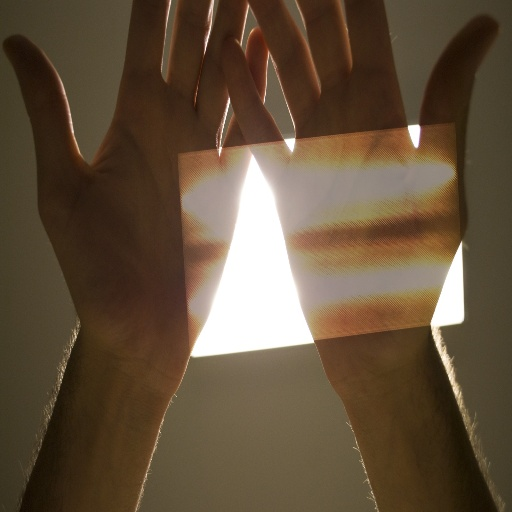hand: (219, 0, 501, 403), (22, 8, 267, 470)
